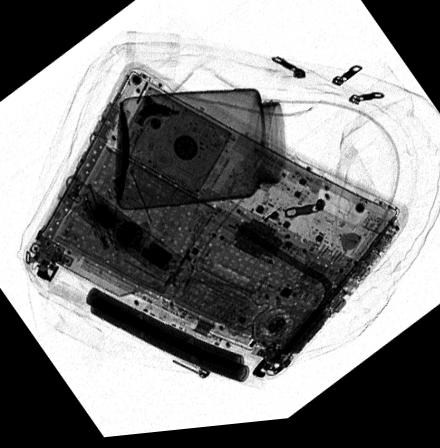Baton: (56, 175, 176, 280)
